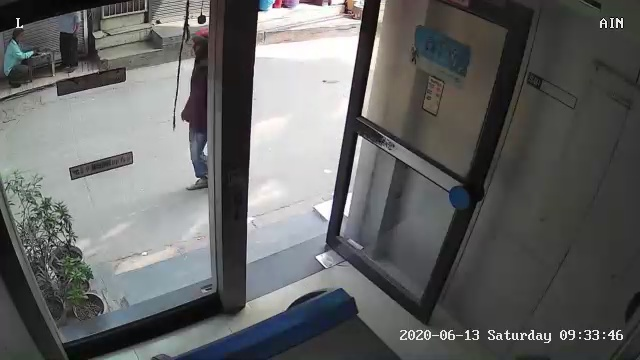open: (189, 5, 547, 323)
